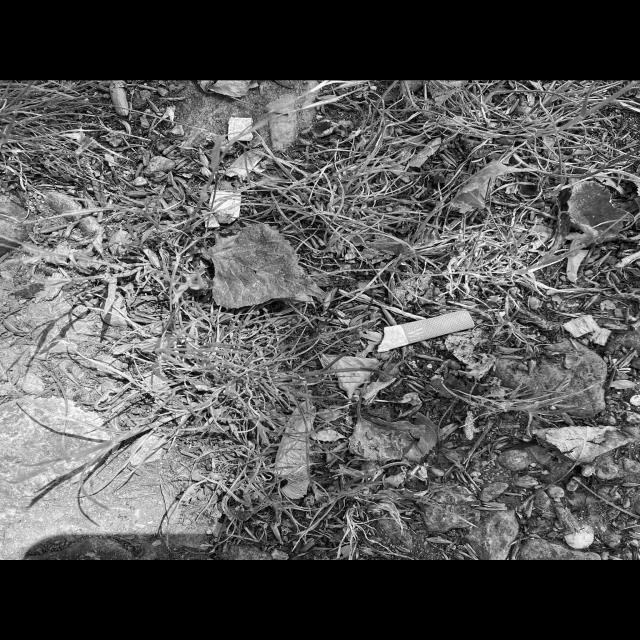other waste: (374, 310, 475, 352)
